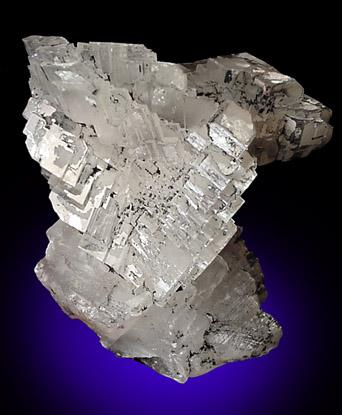calcite: (23, 37, 333, 384)
